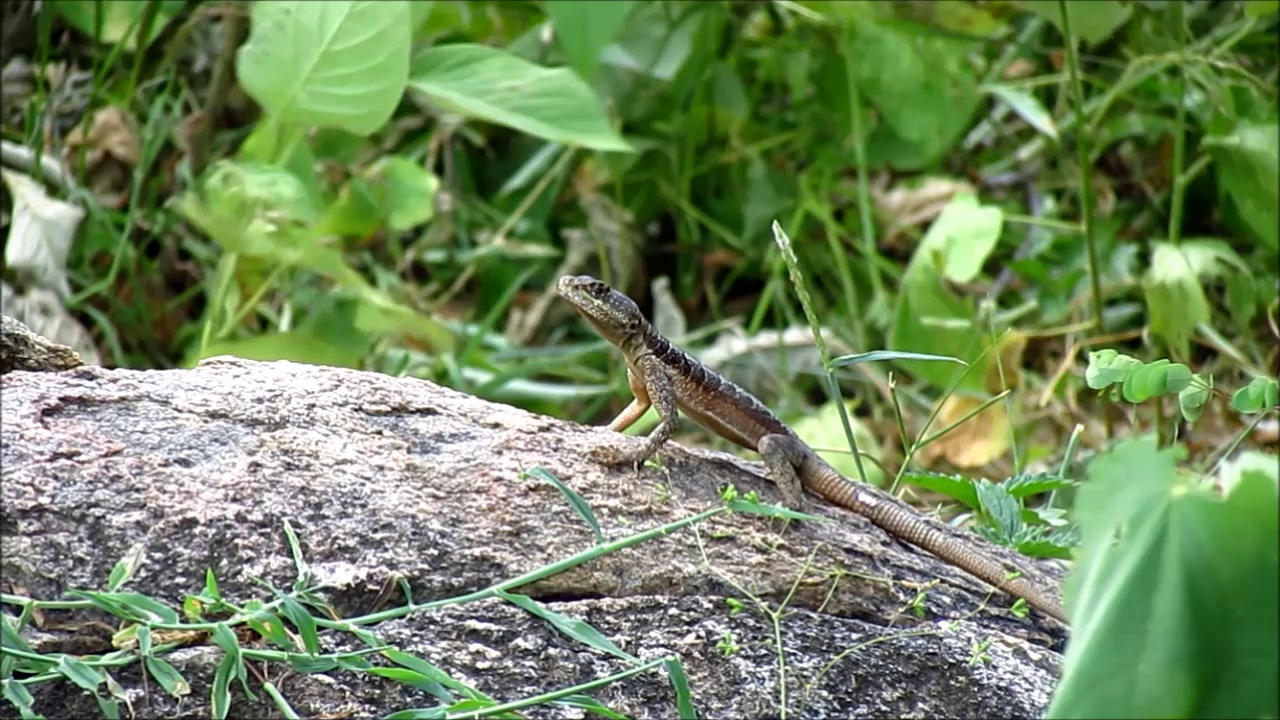body: (601, 314, 1068, 624)
head: (557, 275, 638, 337)
